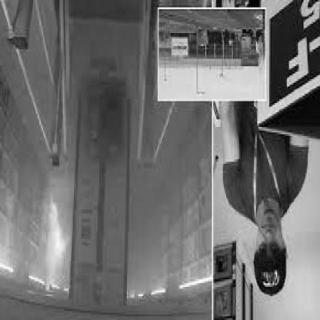Fire: (38, 165, 72, 289)
